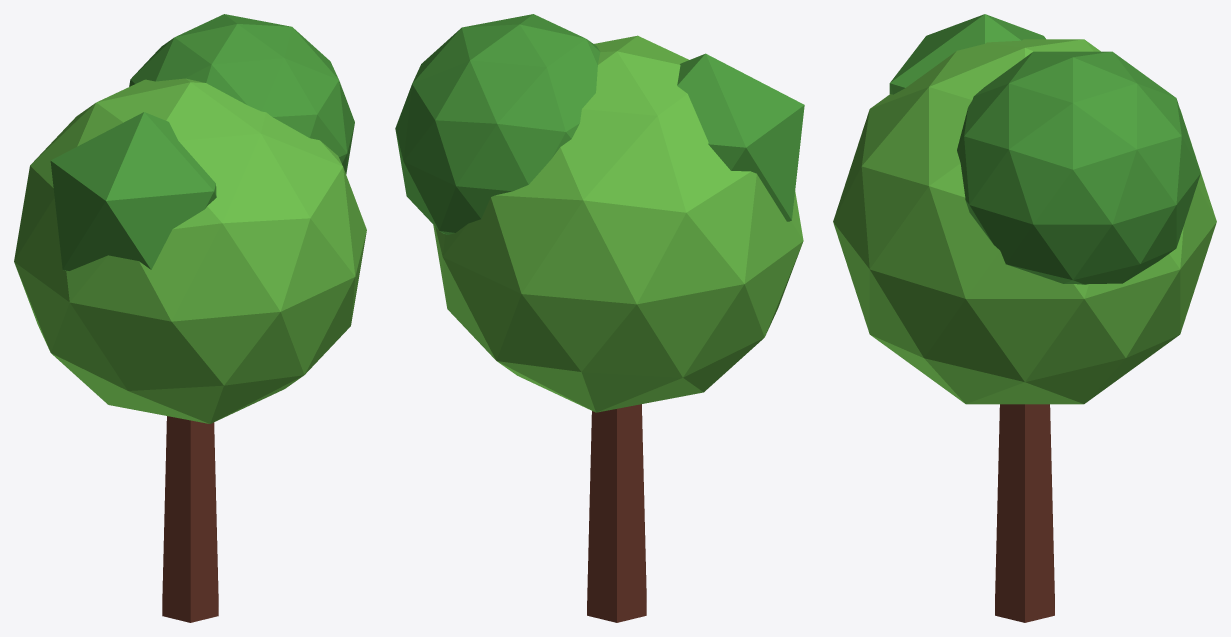
The model's file is P_TreeRound.fbx.
3 views of the same model, side by side, from view 1: azimuth 30°, elevation 25°; view 2: azimuth 150°, elevation 25°; view 3: azimuth 270°, elevation 25° (orthographic). The views are drawn at different scales.
Visible parts, largest first — view 1: P_TreeRound; view 2: P_TreeRound; view 3: P_TreeRound.
Boxes of the visible parts, box(x1,y1,x2,y2) form: P_TreeRound: box(14, 14, 366, 622); P_TreeRound: box(395, 14, 804, 622); P_TreeRound: box(833, 14, 1216, 622).
Size of the model in its own units: 1.46 by 2.43 by 1.44.
